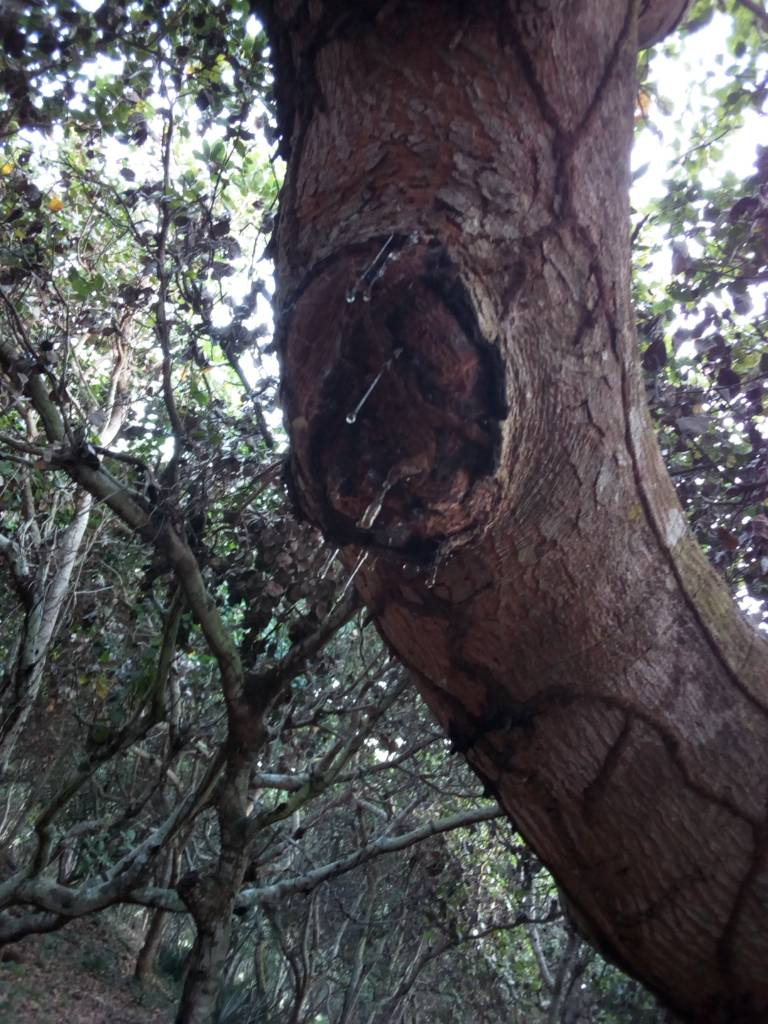Termites: (504, 686, 766, 975)
